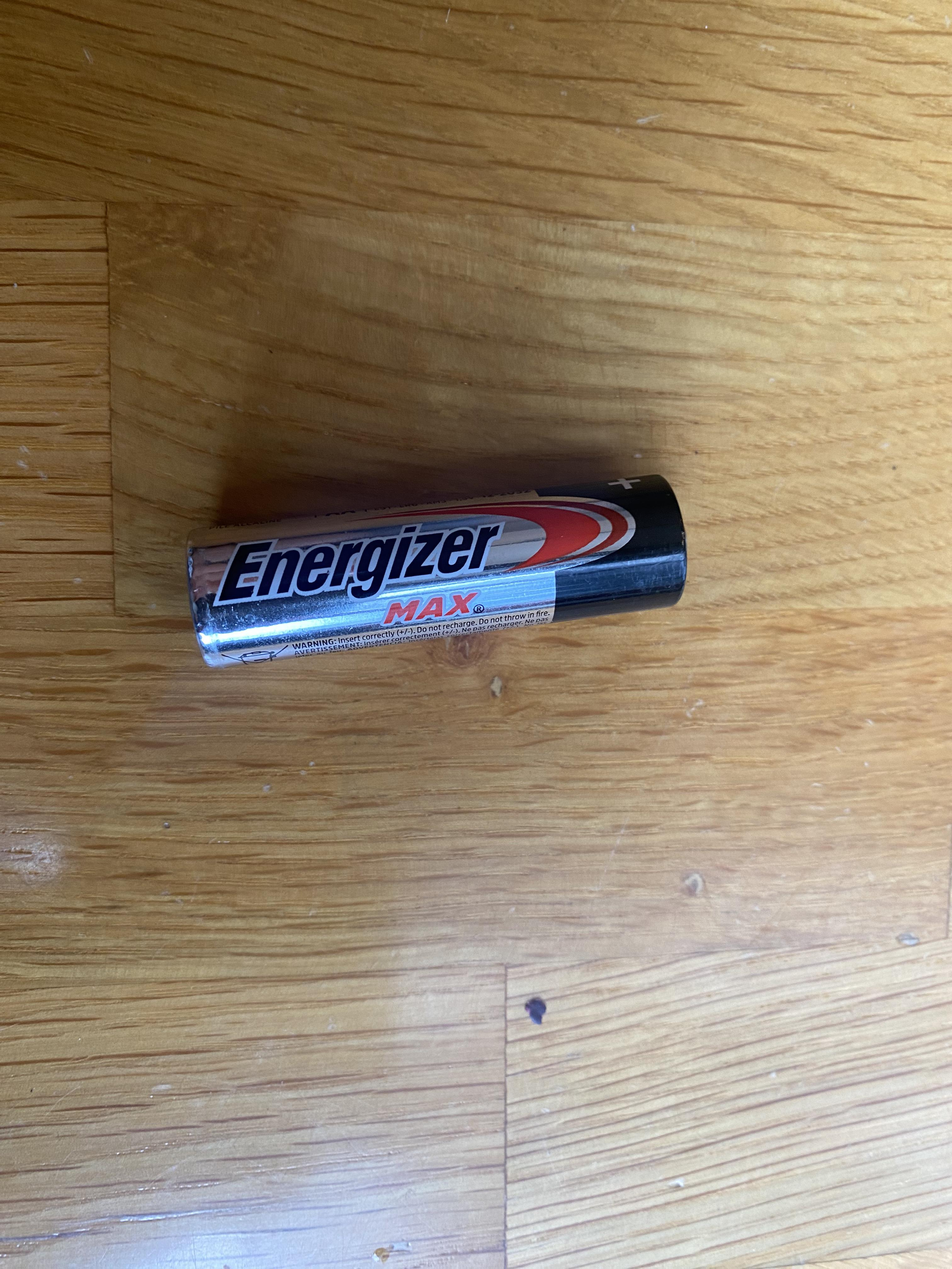AA: (184, 470, 688, 669)
